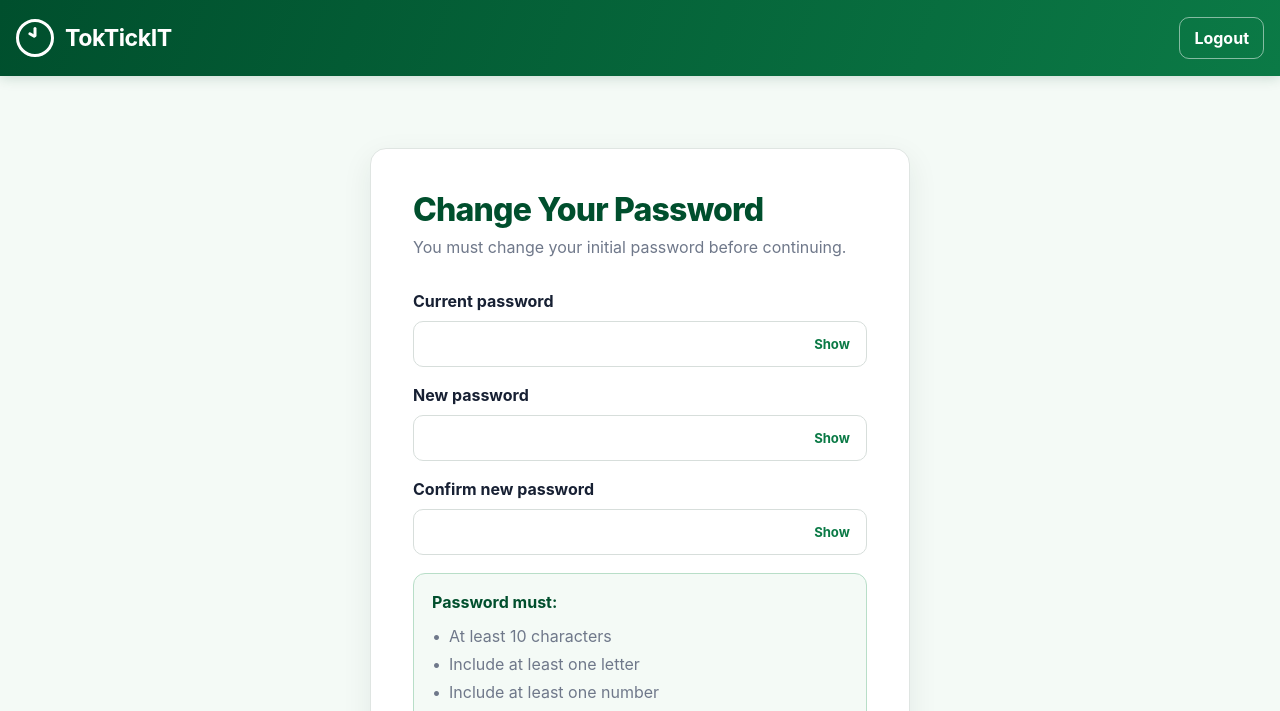
Test: Lab 3 Change Password UI › maps incorrect current password to the Current password field
The width and height of the screenshot is (1280, 711).
Check: the heading "Change Your Password" is shown, box [413,190,764,229]
In the password field labelled "Current password": (640, 344) [413,321,867,367], type "WrongCurrent1"
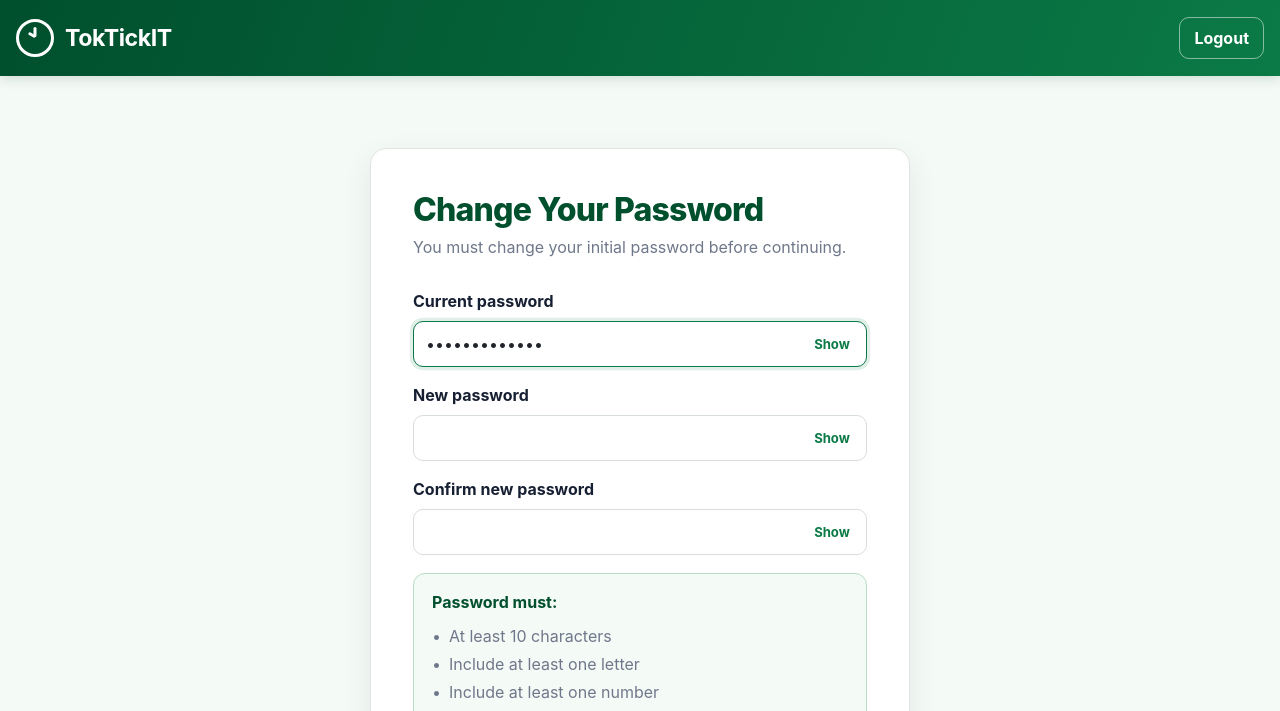
In the password field labelled "New password": (640, 438) [413,415,867,461], type "Replacement2"
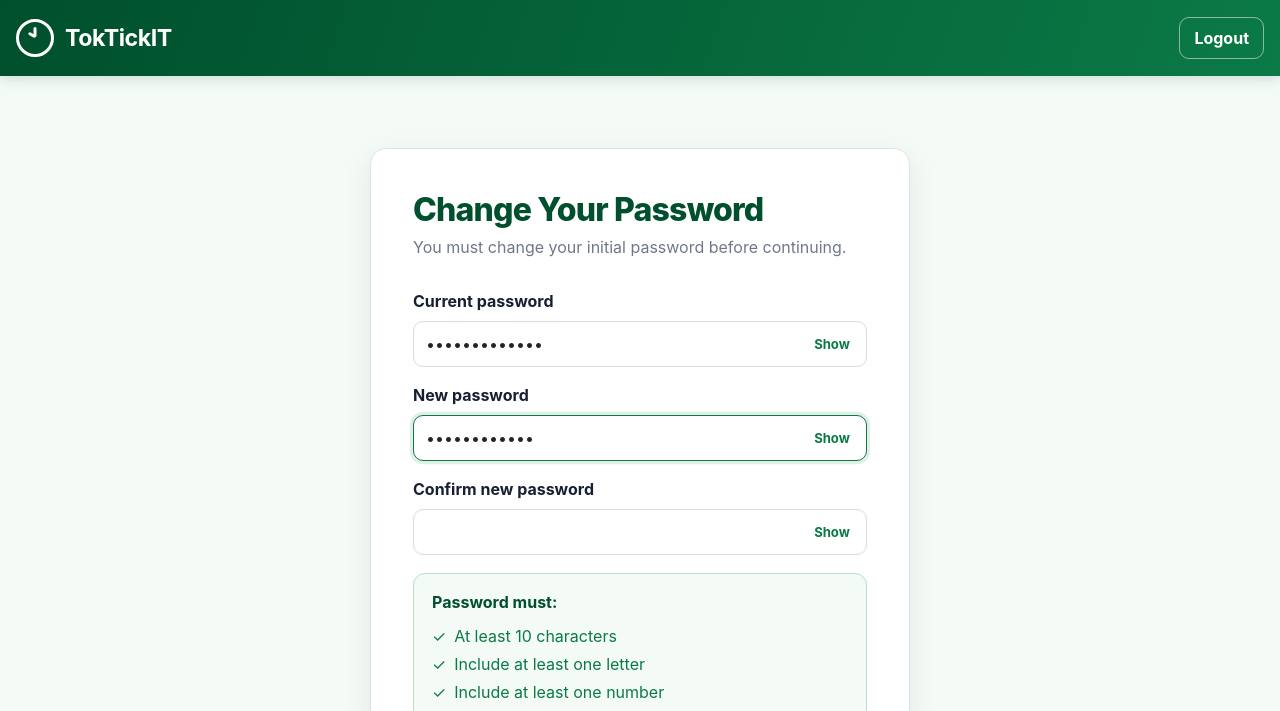
In the password field labelled "Confirm new password": (640, 532) [413,509,867,555], type "Replacement2"
(page scrolled)
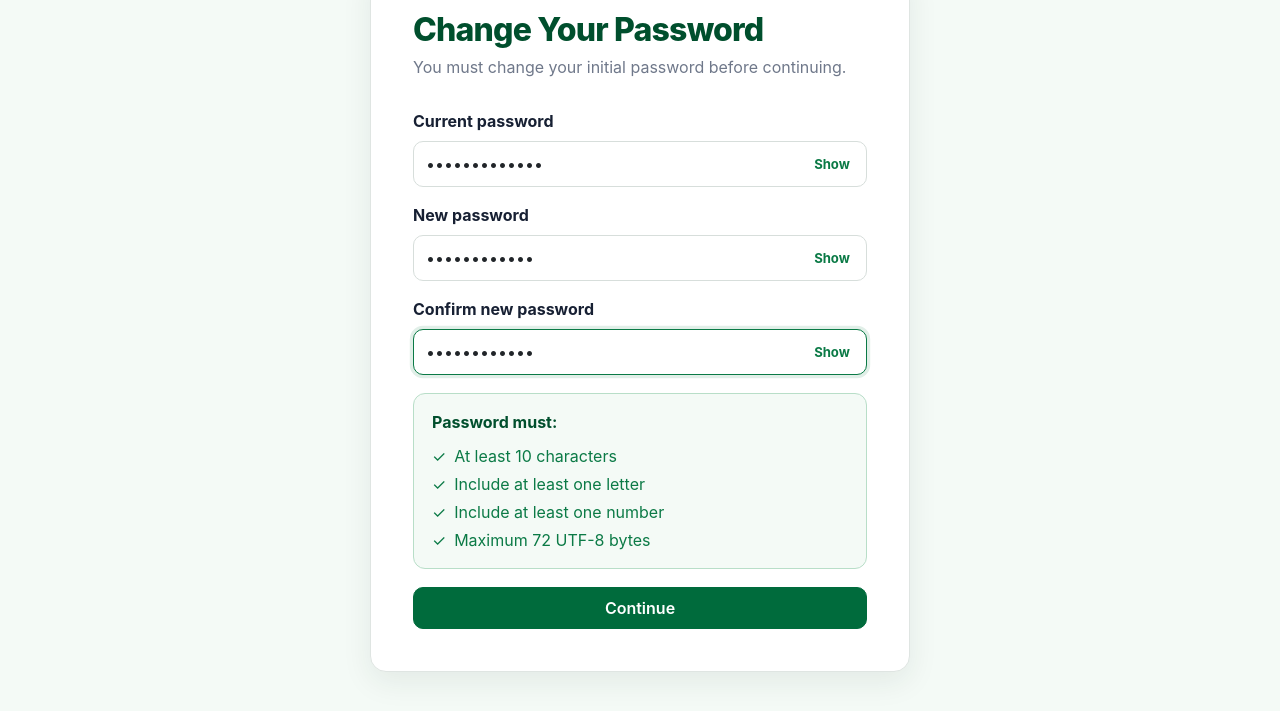
Click the button "Continue": (640, 608) [413,587,867,629]
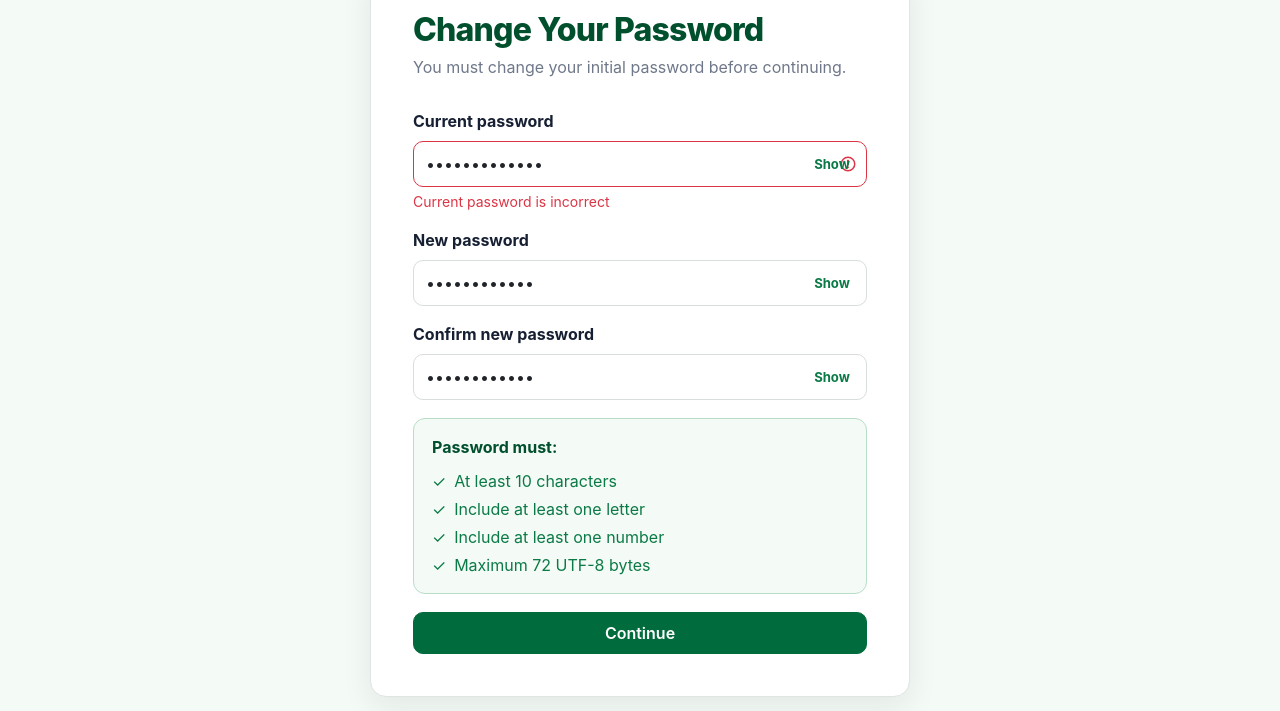
Check: the text "Current password is incorrect" is shown, box [413,193,610,210]
